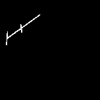double_crochet: (6, 15, 38, 44)
